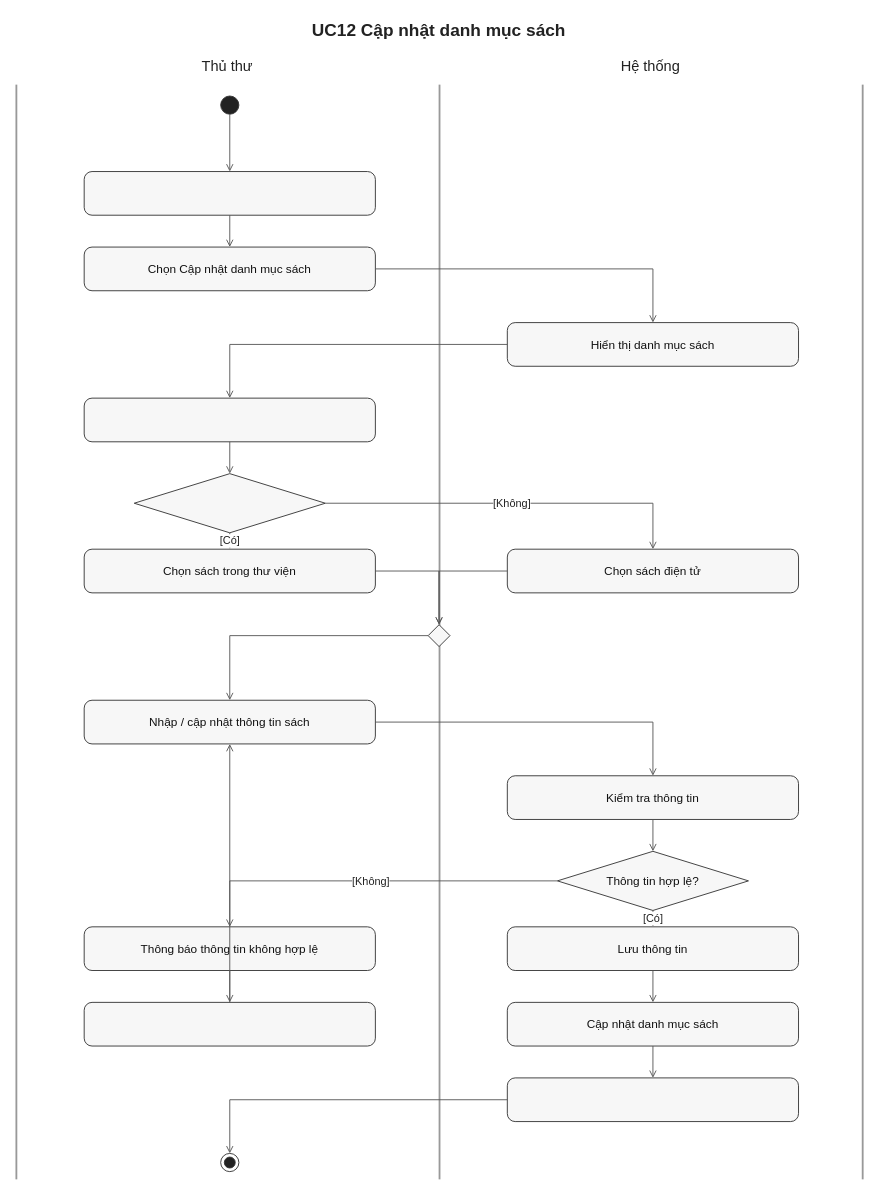
Image size: 879x1195. Some labels were removed from this diagram. The shapes that lost their labels are listed below. From the top down, each one's centre as x and y in pixels, then its label:
At point (229, 193): "Đăng nhập hệ thống".
At point (229, 419): "Chọn loại tài liệu cần cập nhật".
At point (229, 503): "Sách trong thư viện?".
At point (229, 1023): "Nhập lại thông tin".
At point (652, 1099): "Thông báo cập nhật thành công".
